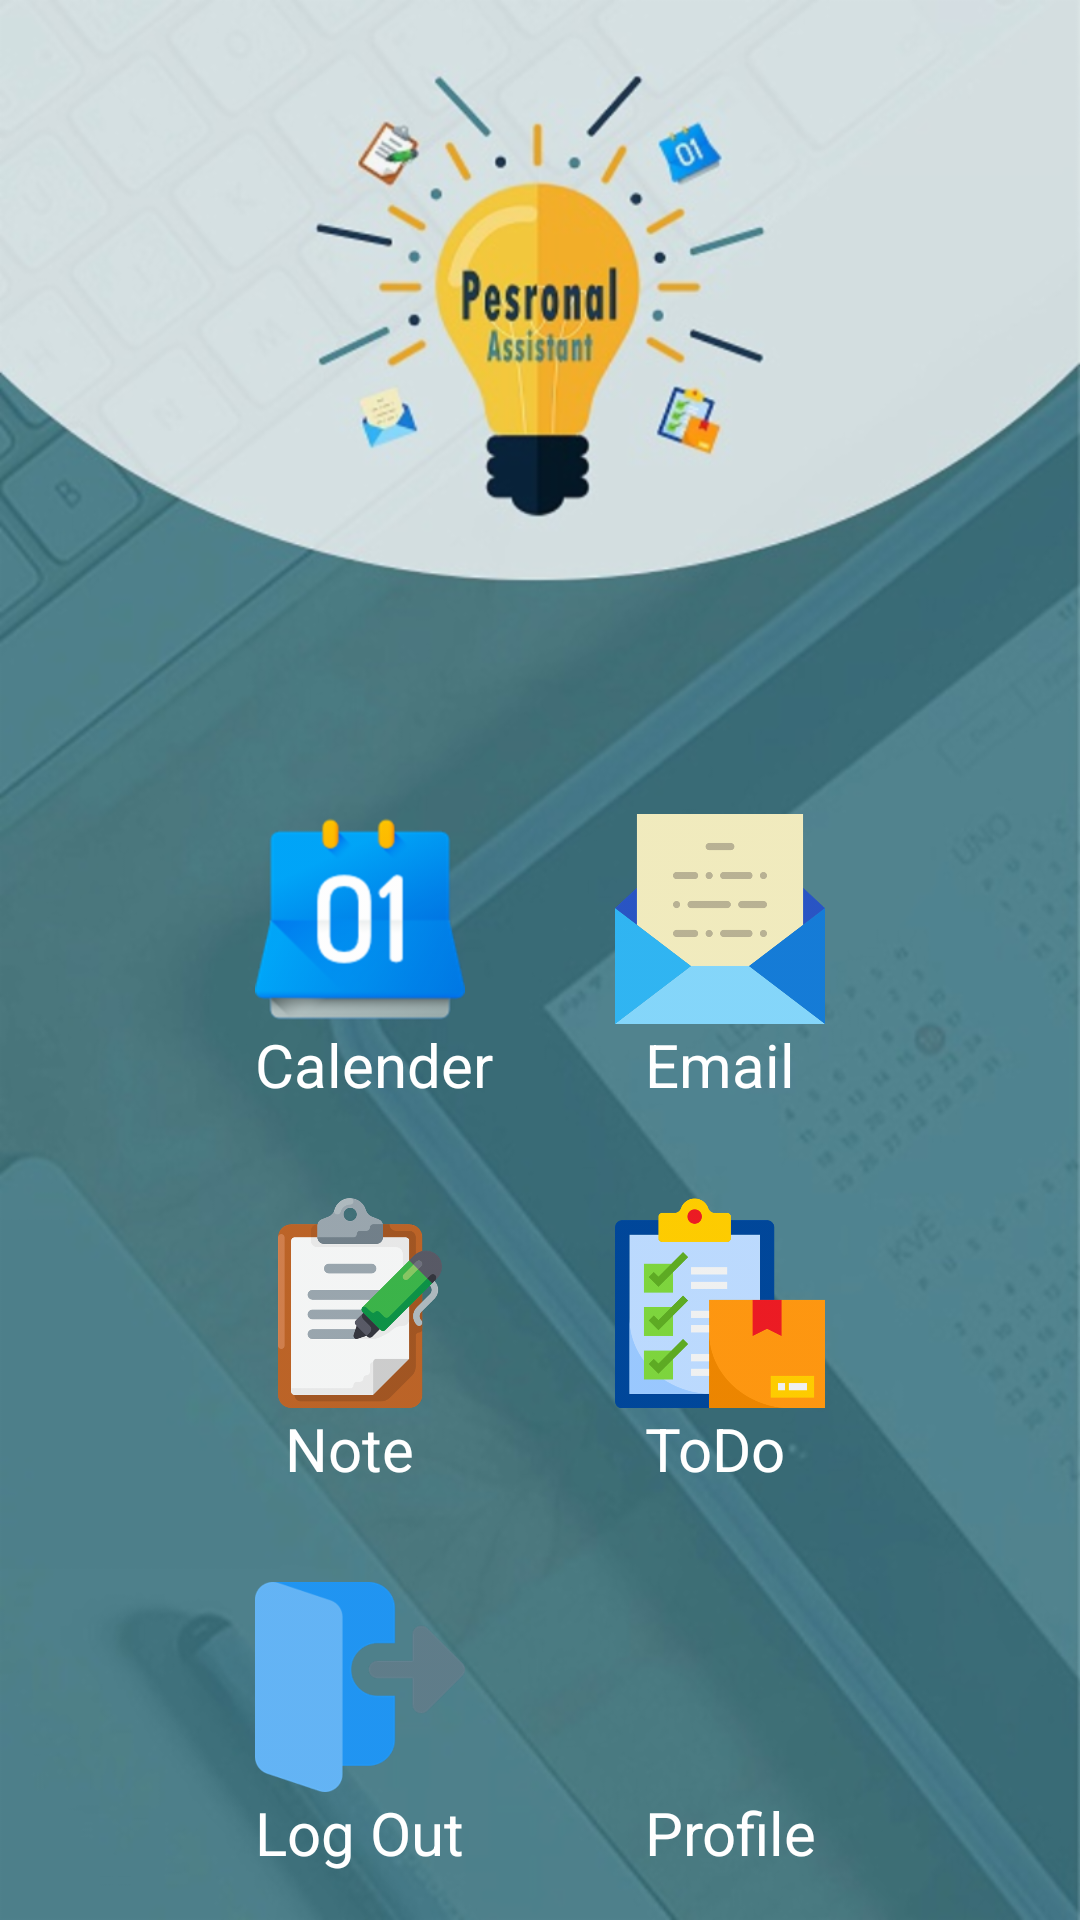

Locate icon controls on the screen. Image size 1080px x 1920px, boxes as bbox(x1, y1, x2, y2).
clipboard: bbox(278, 1198, 442, 1408)
delivery: bbox(615, 1198, 825, 1408)
envelope: bbox(615, 814, 825, 1024)
